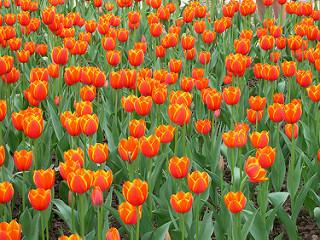tulip: (242, 156, 266, 186), (123, 179, 149, 206), (169, 190, 192, 214), (23, 113, 45, 138), (116, 137, 138, 162), (168, 154, 190, 179), (223, 191, 248, 213), (86, 142, 109, 165), (29, 188, 52, 210), (224, 130, 248, 151), (169, 102, 191, 124), (14, 148, 35, 171), (188, 170, 209, 193), (67, 172, 90, 193), (256, 144, 276, 168), (31, 169, 55, 189), (91, 169, 113, 190), (140, 134, 160, 157), (65, 115, 85, 136), (156, 123, 176, 144), (250, 128, 271, 148), (134, 94, 153, 116), (0, 221, 22, 240), (283, 103, 303, 123), (31, 79, 49, 101), (223, 85, 242, 105), (80, 113, 98, 134), (128, 117, 145, 138), (107, 70, 126, 88), (268, 103, 285, 123), (78, 85, 98, 102), (92, 68, 108, 89), (65, 64, 80, 86), (193, 116, 211, 134), (0, 180, 14, 203), (206, 91, 222, 110), (121, 93, 137, 111), (138, 77, 154, 95), (247, 96, 267, 110), (128, 49, 143, 65), (41, 8, 54, 24), (106, 50, 120, 64), (102, 35, 115, 50), (128, 10, 140, 23)
